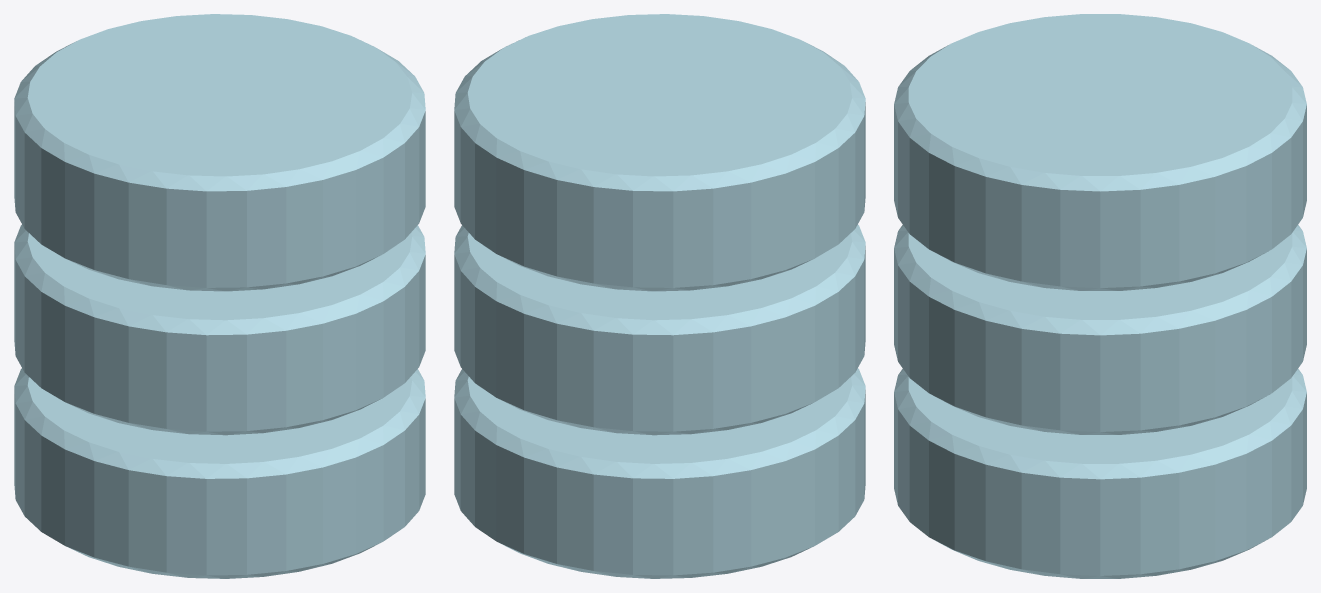
The model's file is Database.glb.
The picture shows the model from 3 angles, left to right: view 1: azimuth 30°, elevation 25°; view 2: azimuth 150°, elevation 25°; view 3: azimuth 270°, elevation 25°; orthographic projection.
Parts seen in each view (by area): view 1: D3, D2, D1; view 2: D3, D2, D1; view 3: D3, D2, D1.
Boxes of the visible parts, x1,y1,x2,y2 form: D3: (14,14,425,291); D2: (14,224,425,435); D1: (14,368,425,578); D3: (454,14,865,291); D2: (454,224,865,435); D1: (454,368,865,578); D3: (894,14,1306,290); D2: (894,225,1306,434); D1: (894,369,1306,578).
Size of the model in its own units: 0.65 by 0.7 by 0.65.
